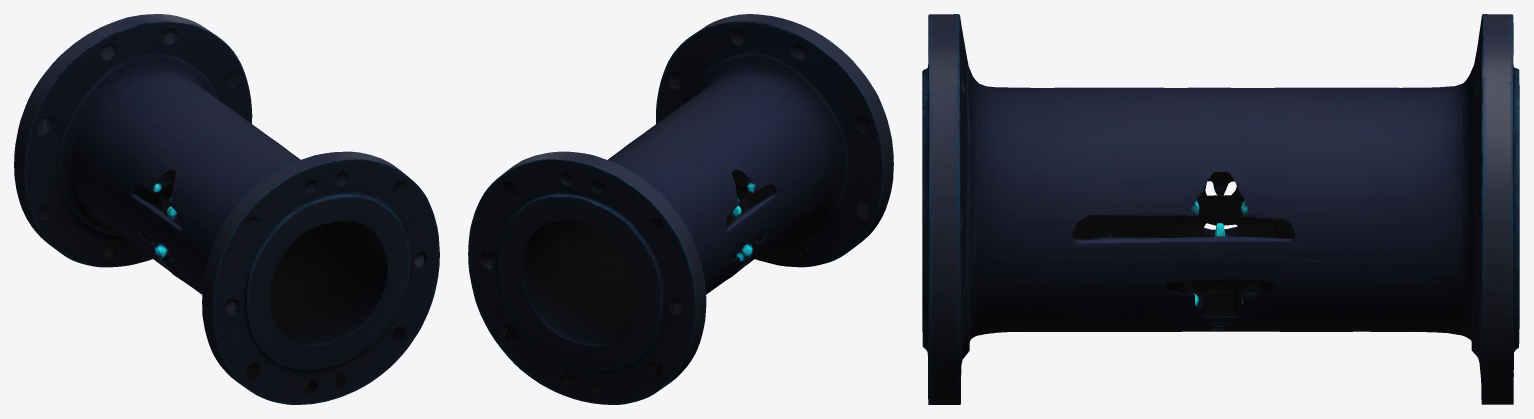
File: cano-3d-2.glb
3 views of the same model, side by side, from view 1: azimuth 30°, elevation 25°; view 2: azimuth 150°, elevation 25°; view 3: azimuth 270°, elevation 25° (orthographic). The views are drawn at different scales.
Visible parts, largest first — view 1: world; view 2: world; view 3: world.
Part boxes in pixels (<box>): world: <box>14,14,439,404</box>; world: <box>468,14,893,404</box>; world: <box>922,14,1519,404</box>.
Size of the model in its own units: 0.6485 by 0.65 by 1.
1 material, 1 textured.
